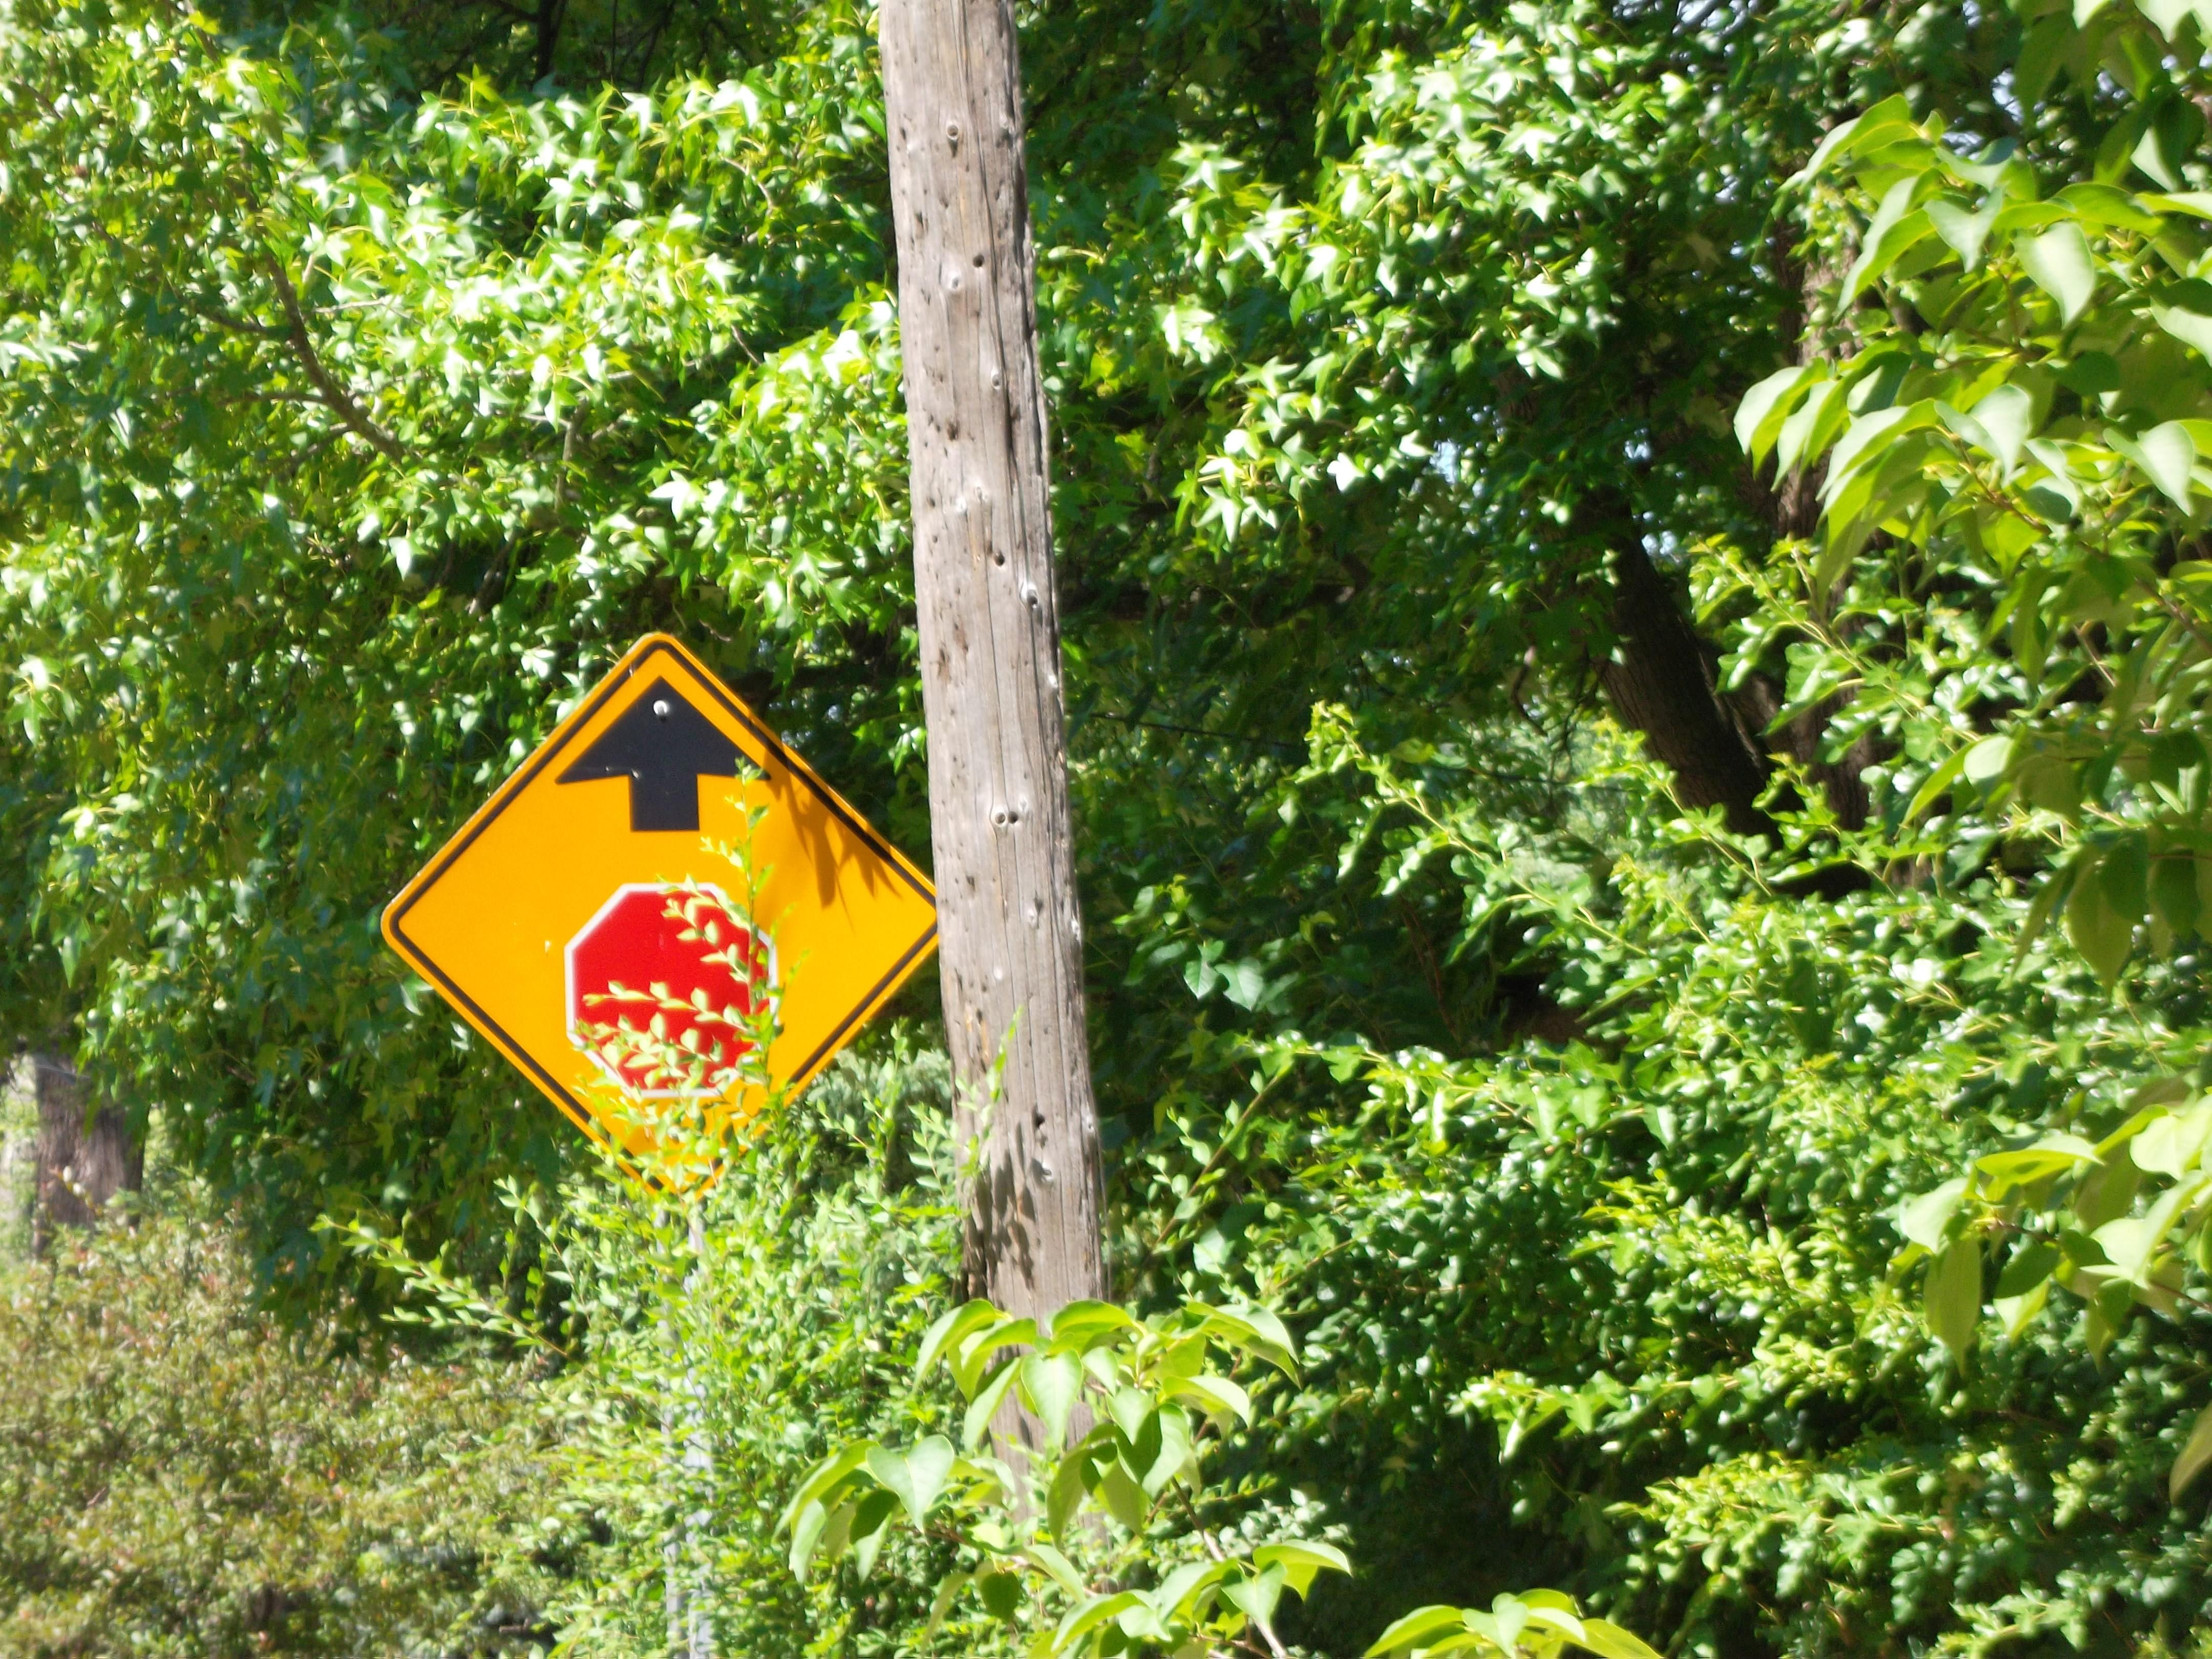stop: (552, 861, 794, 1129)
warning: (380, 626, 961, 1220)
